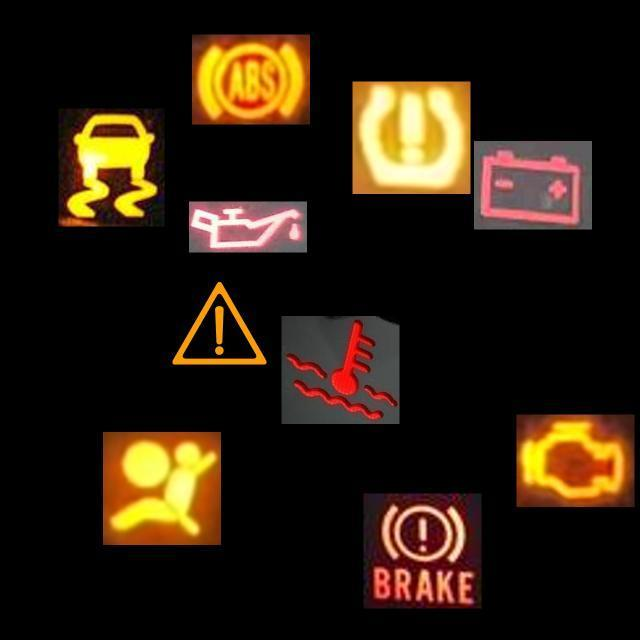Central Warning lamp: (160, 264, 278, 382)
Engine cooling system: (282, 316, 399, 424)
